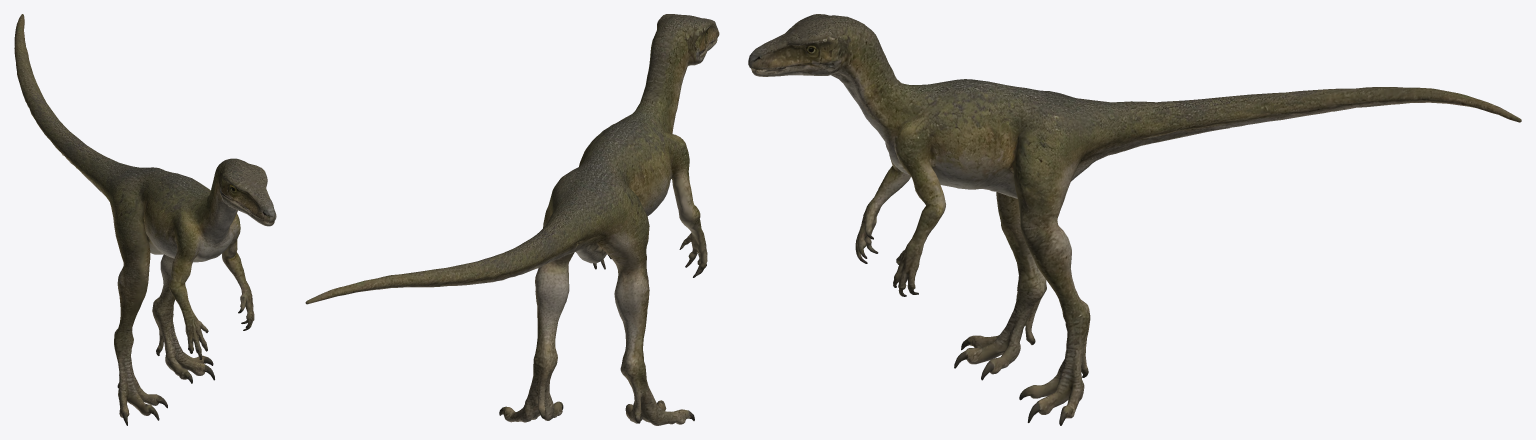
Rendered from compsognatus.glb.
3 views of the same model, side by side, from view 1: azimuth 30°, elevation 25°; view 2: azimuth 150°, elevation 25°; view 3: azimuth 270°, elevation 25° (orthographic). The views are drawn at different scales.
Parts seen in each view (by area): view 1: dino; view 2: dino; view 3: dino.
Part boxes in pixels (left/top/right/bottom): dino: left=14, top=14, right=276, bottom=425; dino: left=305, top=14, right=719, bottom=425; dino: left=748, top=14, right=1521, bottom=425.
Size of the model in its own units: 0.2449 by 0.5327 by 1.
1 material, 1 textured.
